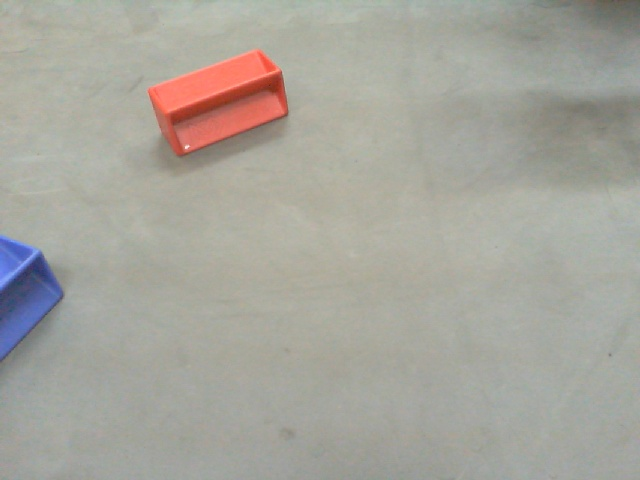BlueSample: (1, 231, 62, 360)
RedSample: (145, 45, 292, 167)
